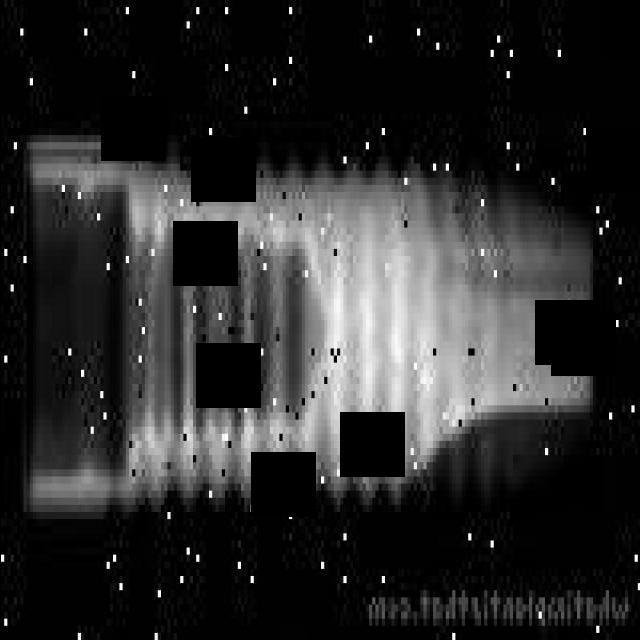OCO Biomedical Implant: (26, 140, 603, 526)
